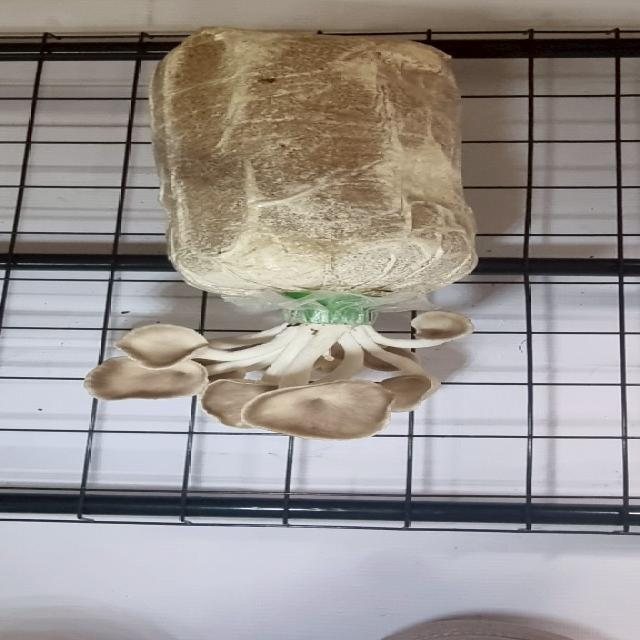normal: (227, 370, 416, 444), (78, 322, 233, 403)
